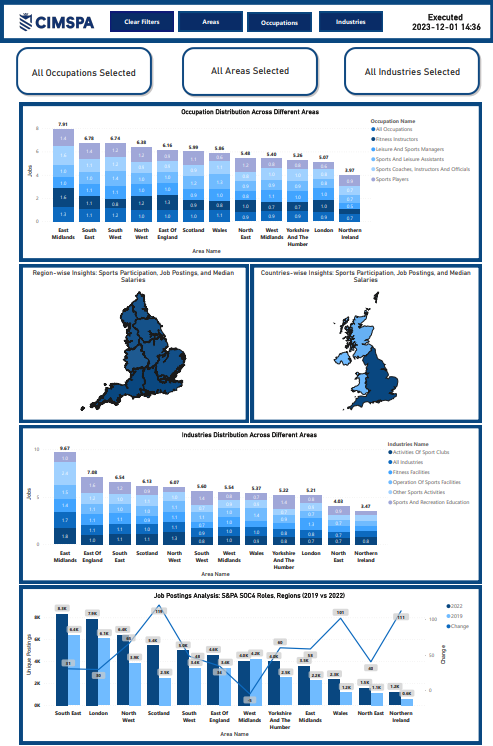

This screenshot's page, from the dashboard's own definition file:
{"tool":"powerbi","page":{"name":"Regional","canvas":[1248,1900],"ordinal":5},"visuals":[{"type":"shape","box":[50,258.1,1167.5,400],"z":0},{"type":"columnChart","title":"Occupation Distribution Across Different Areas","fields":{"Category":["Areas.AreaName"],"Y":["Sum(LQ_Occ.Value)"],"Series":["Occupations.Name"]},"box":[62.5,270.6,1140,373.8],"z":1000},{"type":"shape","box":[50,666.3,578.6,400],"z":2000},{"type":"shape","box":[634.3,666.3,582.9,400],"z":3000},{"type":"shape","box":[866,112.3,350,130],"z":4000},{"type":"shape","box":[456.9,114,350,130],"z":5000},{"type":"shape","box":[37.7,112.2,350,130],"z":6000},{"type":"card","fields":{"Values":["# Measures.OccupationsSelected3"]},"box":[49.7,127.1,324.3,104.3],"z":7000},{"type":"card","fields":{"Values":["# Measures.IndustriesSelected"]},"box":[887.1,125.7,308.6,104.3],"z":8000},{"type":"card","fields":{"Values":["# Measures.AreasSelected"]},"box":[468.3,114,328.6,121.4],"z":9000},{"type":"shape","box":[0,0,1248.6,104.3],"z":10000},{"type":"image","box":[23.4,23.4,238.5,58.5],"z":11000},{"type":"actionButton","box":[451.4,28.6,161.4,48.6],"z":12000},{"type":"actionButton","box":[277.1,28.6,161.4,48.6],"z":13000},{"type":"card","fields":{"Values":["# Measures.Executed"]},"box":[1018.6,11.4,220,81.4],"z":14000},{"type":"actionButton","box":[626,29,161,48],"z":15000},{"type":"actionButton","box":[806.2,27.5,161.2,48.8],"z":19000},{"type":"shapeMap","title":"Region-wise Insights: Sports Participation, Job Postings, and Median Salaries","fields":{"Category":["Areas.NameMap"],"Value":["Sum(reg_jp_overview_partic.High Activity Rate (Sport England survey data))"]},"box":[62.9,676.3,550,378.6],"z":23000},{"type":"shapeMap","title":"Countries-wise Insights: Sports Participation, Job Postings, and Median Salaries","fields":{"Value":["Sum(reg_jp_overview_partic.unique postings)"],"Category":["Areas.MapName"]},"box":[645.7,676.3,557.1,378.6],"z":24000},{"type":"shape","box":[50,1072.9,1167.1,400],"z":28000},{"type":"columnChart","title":"Industries Distribution Across Different Areas","fields":{"Category":["Areas.AreaName"],"Series":["Industries.Name"],"Y":["Sum(LQ_Ind.Value)"]},"box":[60.8,1086.1,1140,373.8],"z":29000},{"type":"shape","box":[50,1478.6,1167.1,400],"z":30000},{"type":"lineClusteredColumnComboChart","title":"Job Postings Analysis: S&PA SOC4 Roles, Regions (2019 vs 2022)","fields":{"Category":["Areas.AreaName"],"Y":["Sum(reg_jp_19_22.2022)","Sum(reg_jp_19_22.2019)"],"Y2":["Sum(reg_jp_19_22.change)"]},"box":[60.8,1491.8,1140,373.8],"z":31000}]}

Visuals, with their boxes in screenshot pixels (x1, y1, x2, y2), scaled from the page's 1248x1900 canvas onto the 493x746 screenshot:
shape: crop(20, 101, 481, 258)
"Occupation Distribution Across Different Areas" columnChart: crop(25, 106, 475, 253)
shape: crop(20, 262, 248, 419)
shape: crop(251, 262, 481, 419)
shape: crop(342, 44, 480, 95)
shape: crop(180, 45, 319, 96)
shape: crop(15, 44, 153, 95)
card - # Measures.OccupationsSelected3: crop(20, 50, 148, 91)
card - # Measures.IndustriesSelected: crop(350, 49, 472, 90)
card - # Measures.AreasSelected: crop(185, 45, 315, 92)
shape: crop(0, 0, 492, 41)
image: crop(9, 9, 103, 32)
actionButton: crop(178, 11, 242, 30)
actionButton: crop(109, 11, 173, 30)
card - # Measures.Executed: crop(402, 4, 489, 36)
actionButton: crop(247, 11, 311, 30)
actionButton: crop(318, 11, 382, 30)
"Region-wise Insights: Sports Participation, Job Postings, and Median Salaries" shapeMap: crop(25, 266, 242, 414)
"Countries-wise Insights: Sports Participation, Job Postings, and Median Salaries" shapeMap: crop(255, 266, 475, 414)
shape: crop(20, 421, 481, 578)
"Industries Distribution Across Different Areas" columnChart: crop(24, 426, 474, 573)
shape: crop(20, 581, 481, 738)
"Job Postings Analysis: S&PA SOC4 Roles, Regions (2019 vs 2022)" lineClusteredColumnComboChart: crop(24, 586, 474, 732)
